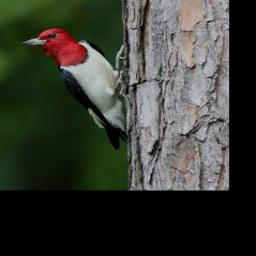Woodpecker: (17, 27, 133, 149)
